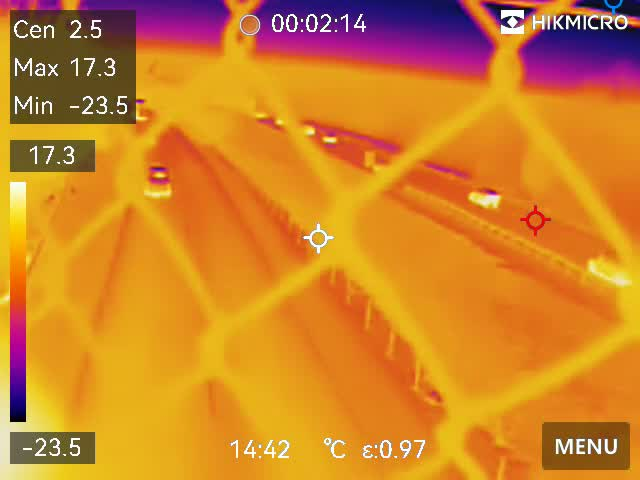vehicle: (139, 158, 177, 204), (462, 180, 505, 214), (323, 136, 340, 148)
